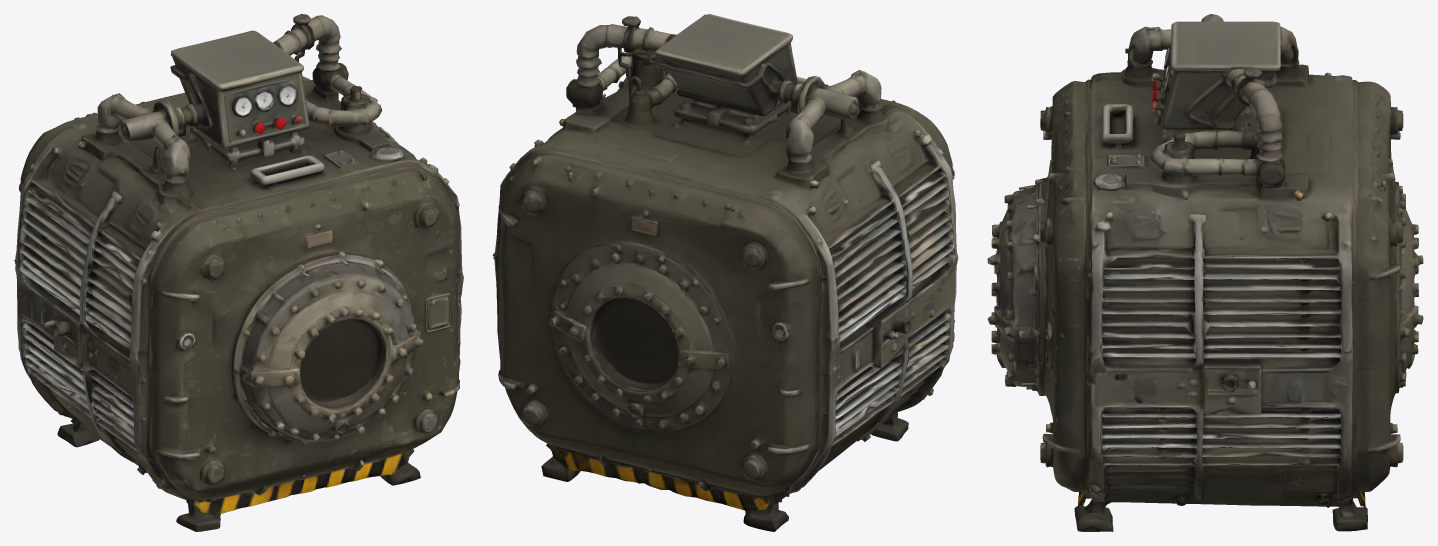
Rendered from shuttle_reactor.glb.
3 renders of one model, left to right at view 1: azimuth 30°, elevation 25°; view 2: azimuth 150°, elevation 25°; view 3: azimuth 270°, elevation 25°, orthographic. The views are drawn at different scales.
Visible parts, largest first — view 1: tripo_node_3c99917c-0287-4b3f-8289-6ad848552e7f; view 2: tripo_node_3c99917c-0287-4b3f-8289-6ad848552e7f; view 3: tripo_node_3c99917c-0287-4b3f-8289-6ad848552e7f.
Part boxes in pixels (x1=…): tripo_node_3c99917c-0287-4b3f-8289-6ad848552e7f: x1=14, y1=14, x2=463, y2=531; tripo_node_3c99917c-0287-4b3f-8289-6ad848552e7f: x1=492, y1=14, x2=958, y2=531; tripo_node_3c99917c-0287-4b3f-8289-6ad848552e7f: x1=987, y1=14, x2=1423, y2=531.
Size of the model in its own units: 0.8958 by 0.9783 by 0.8742.
1 material, 1 textured.
